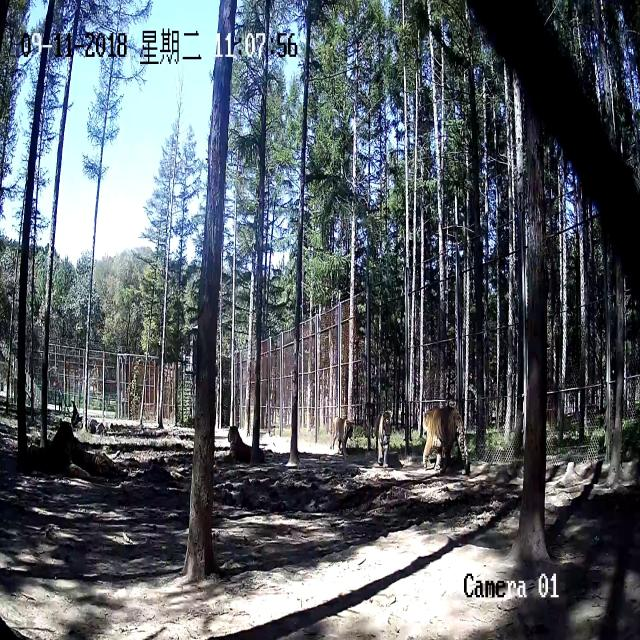Tiger: (4, 418, 75, 492), (418, 405, 474, 478), (217, 418, 272, 474), (370, 402, 400, 468), (87, 453, 136, 488), (326, 414, 356, 458)
